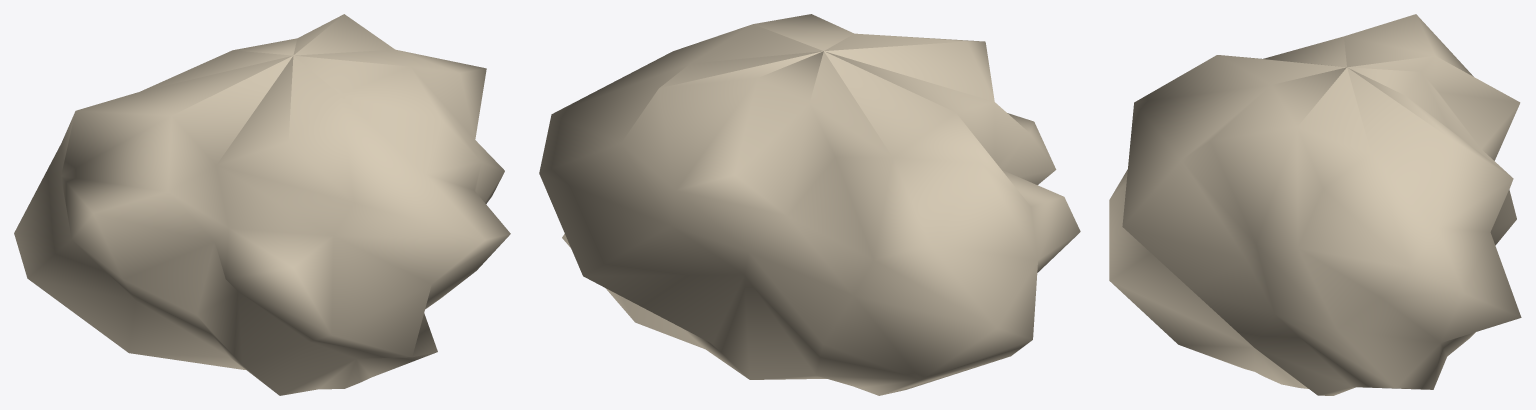
Rendered from rock0-lod2.glb.
The picture shows the model from 3 angles, left to right: view 1: azimuth 30°, elevation 25°; view 2: azimuth 150°, elevation 25°; view 3: azimuth 270°, elevation 25°; orthographic projection. The views are drawn at different scales.
Parts seen in each view (by area): view 1: rock0_rock; view 2: rock0_rock; view 3: rock0_rock.
Part boxes in pixels (<box>): rock0_rock: <box>14,14,510,395</box>; rock0_rock: <box>539,14,1080,395</box>; rock0_rock: <box>1109,14,1521,395</box>.
Size of the model in its own units: 2.33 by 1.5 by 1.82.
